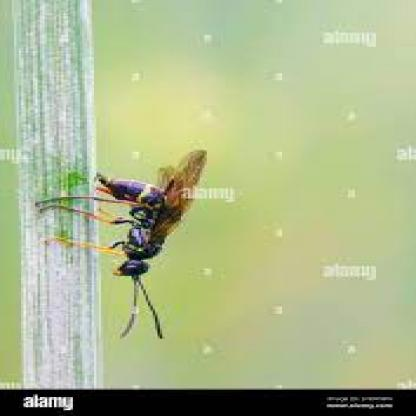sawfly: (38, 142, 217, 349)
